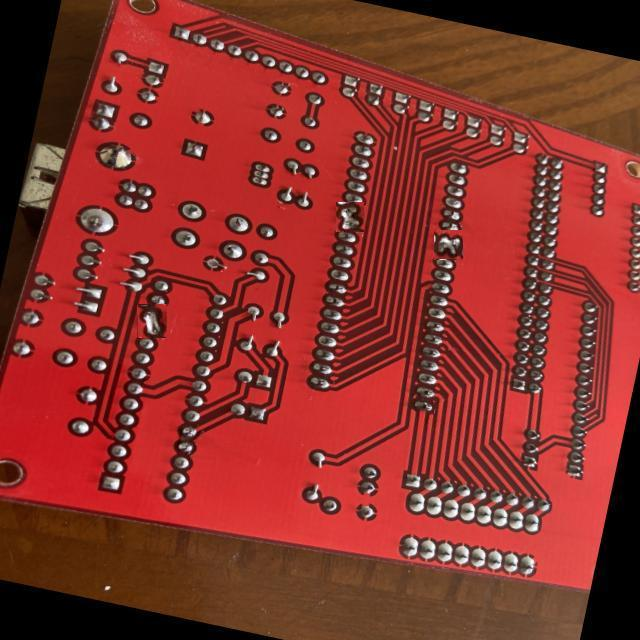damged: (137, 304, 167, 338), (434, 230, 463, 260), (336, 202, 364, 232)
